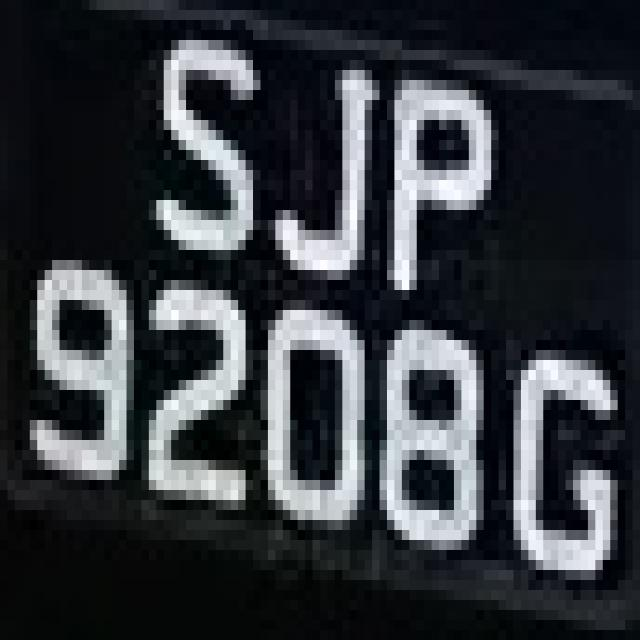0: (268, 280, 372, 520)
2: (149, 250, 245, 530)
8: (387, 310, 499, 570)
9: (22, 220, 156, 490)
G: (506, 300, 625, 600)
J: (260, 30, 380, 300)
P: (379, 50, 498, 340)
S: (127, 10, 260, 290)
